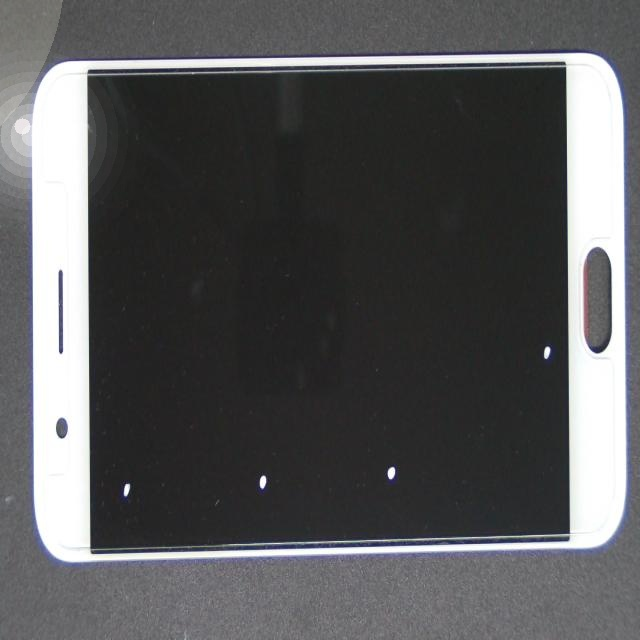stain: (204, 280, 603, 640), (287, 214, 640, 524), (150, 203, 374, 640), (76, 289, 209, 640)
